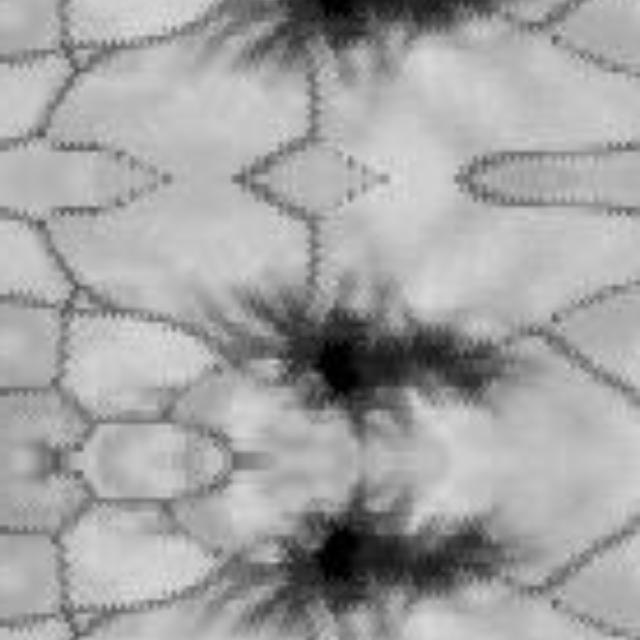good_void: (211, 270, 518, 452), (211, 472, 518, 640), (211, 0, 518, 88)
